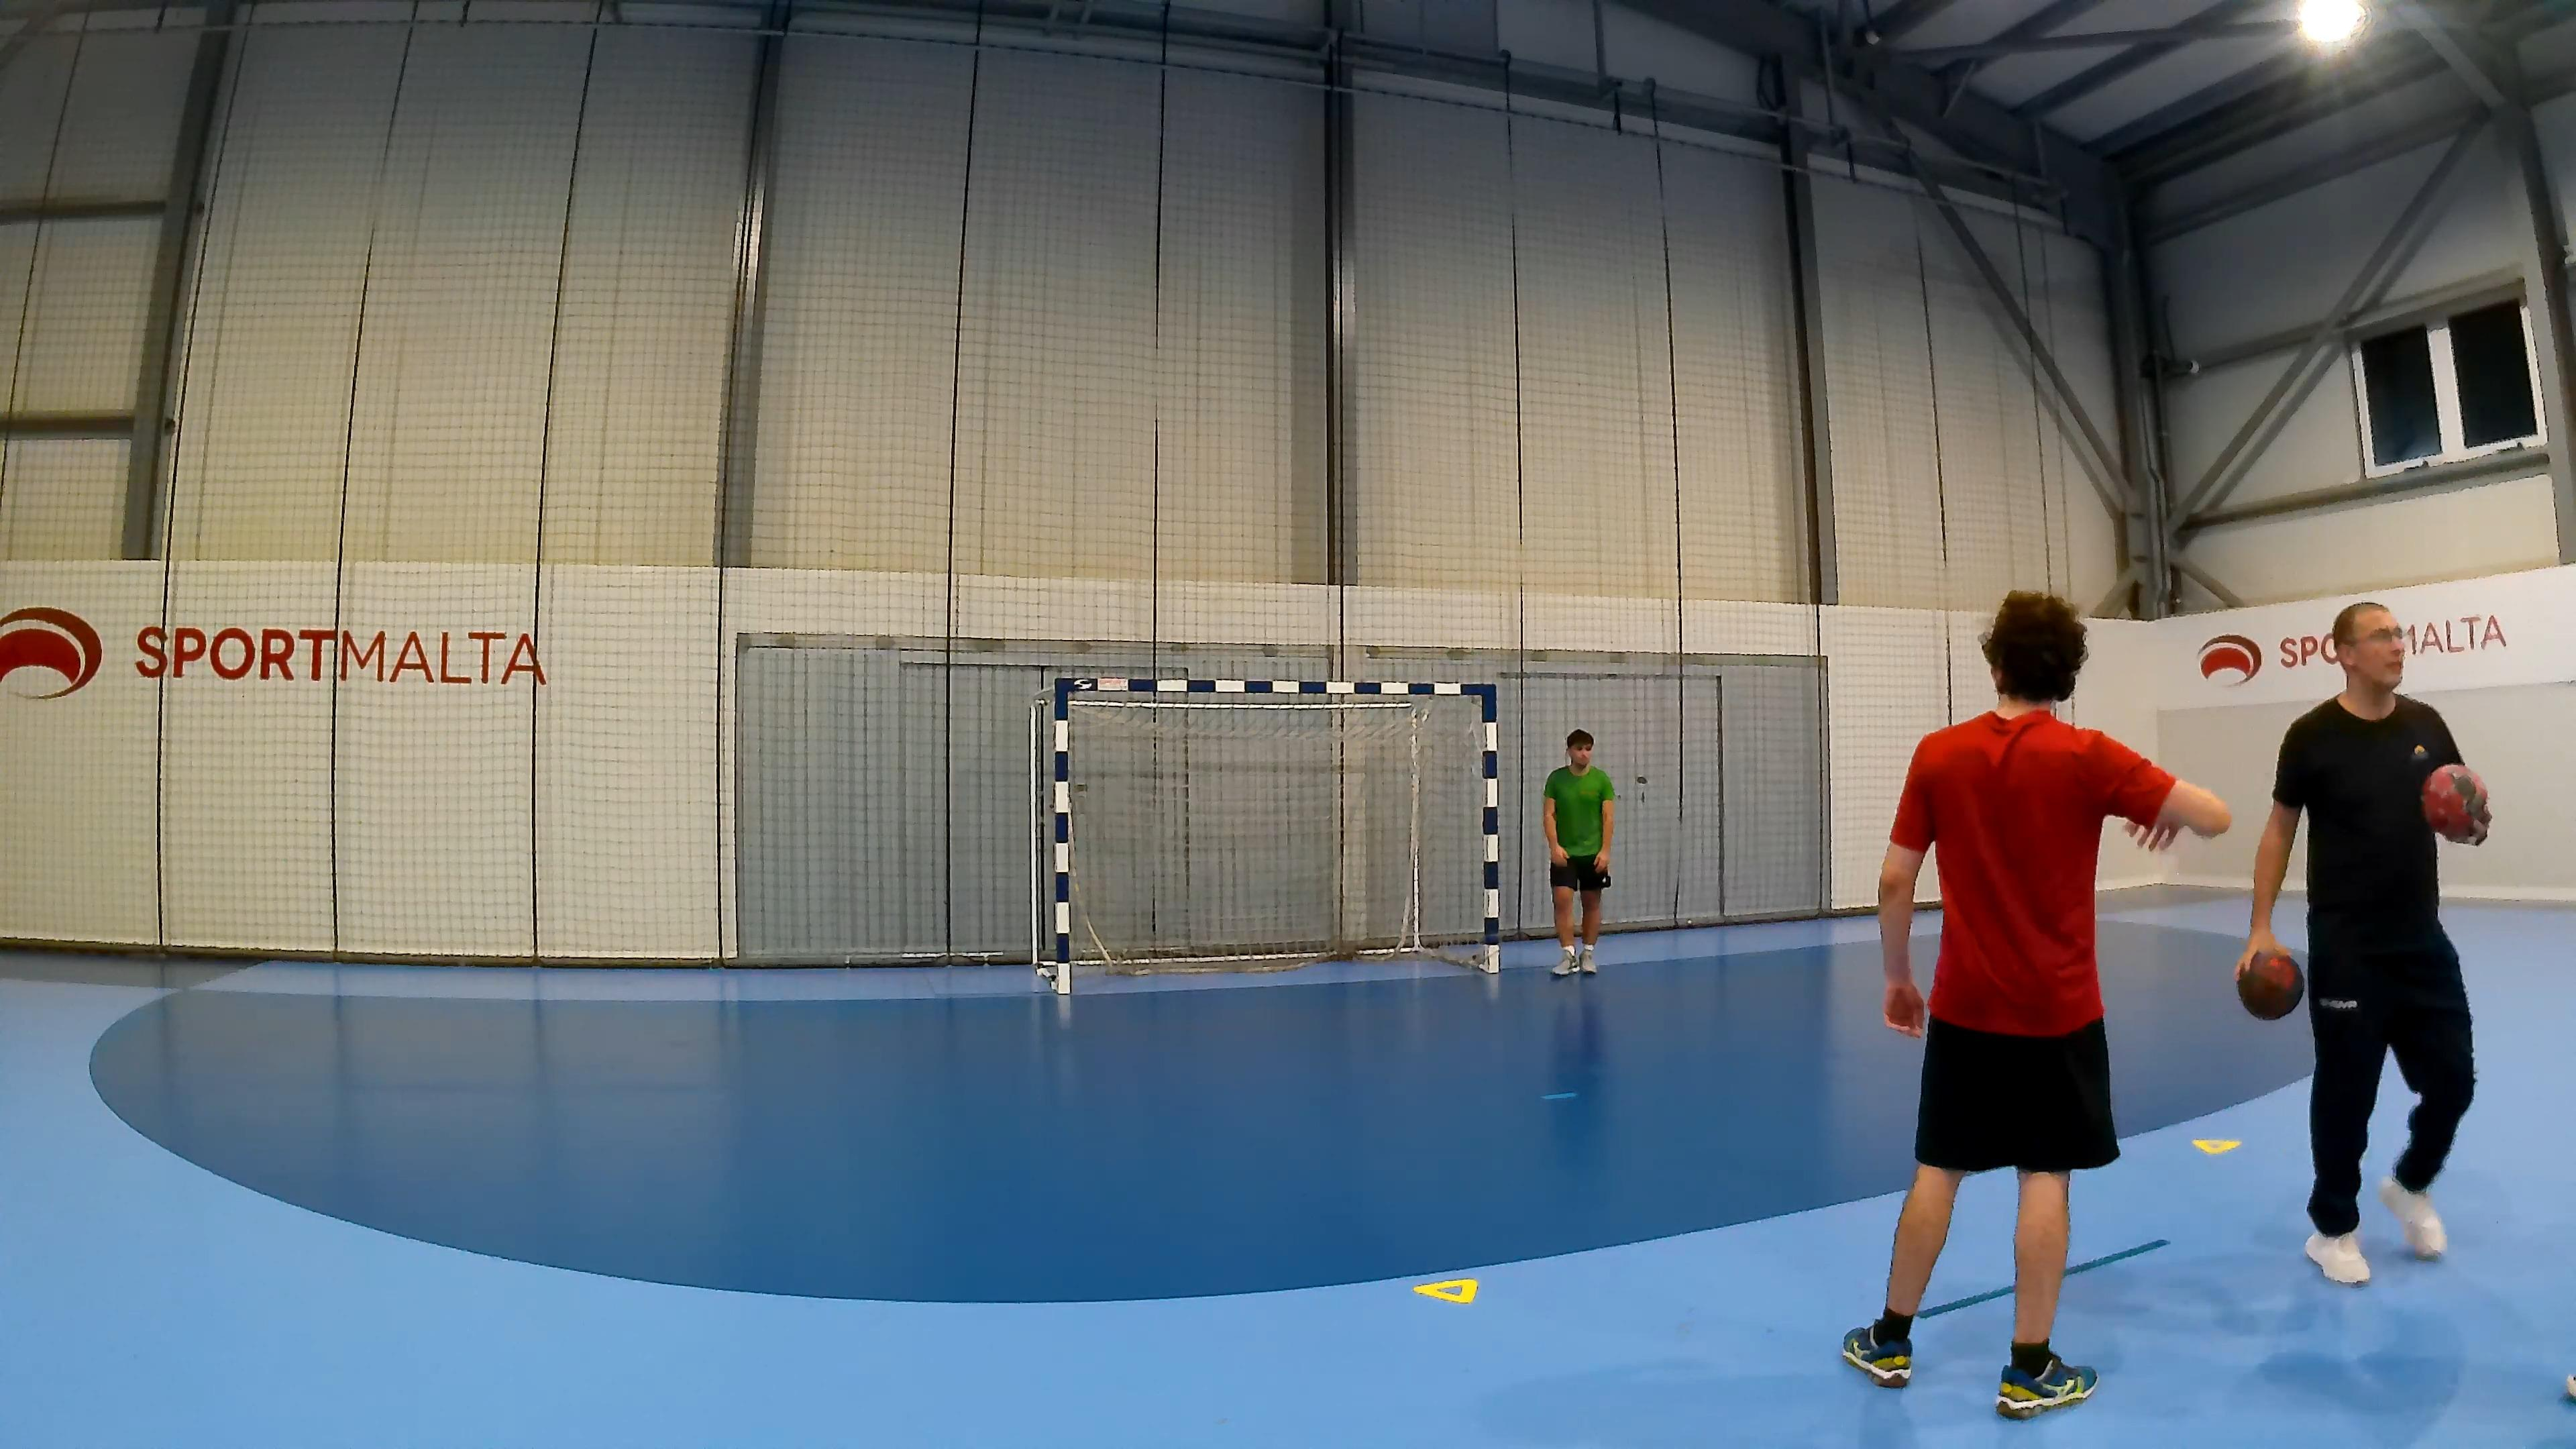handball: (2420, 763, 2489, 846), (2235, 947, 2304, 1021)
